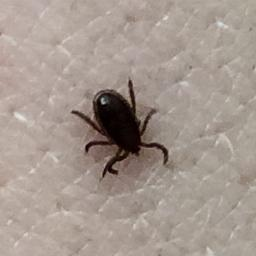Ixodes scapularis: (72, 77, 169, 177)
